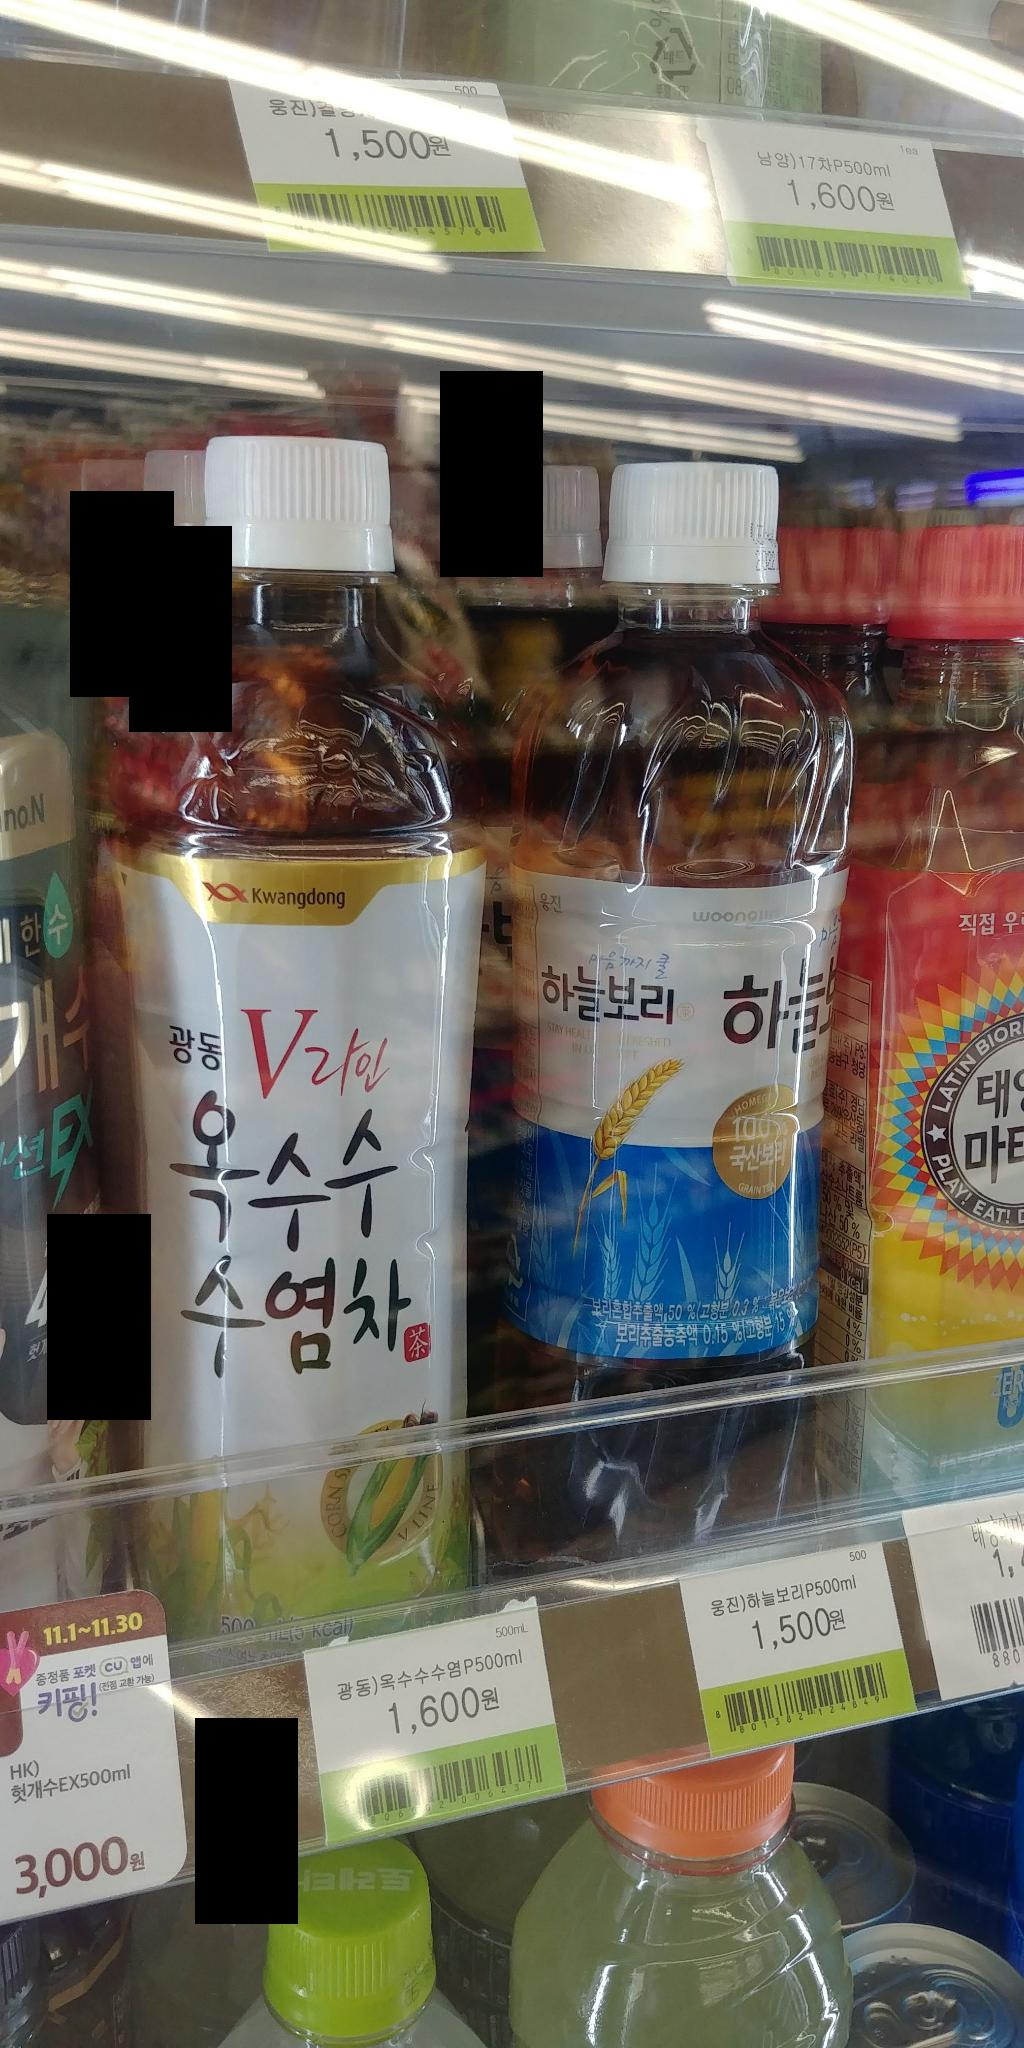haneulbori: (495, 460, 841, 1548)
oksususuyeomcha: (94, 432, 498, 1634)
